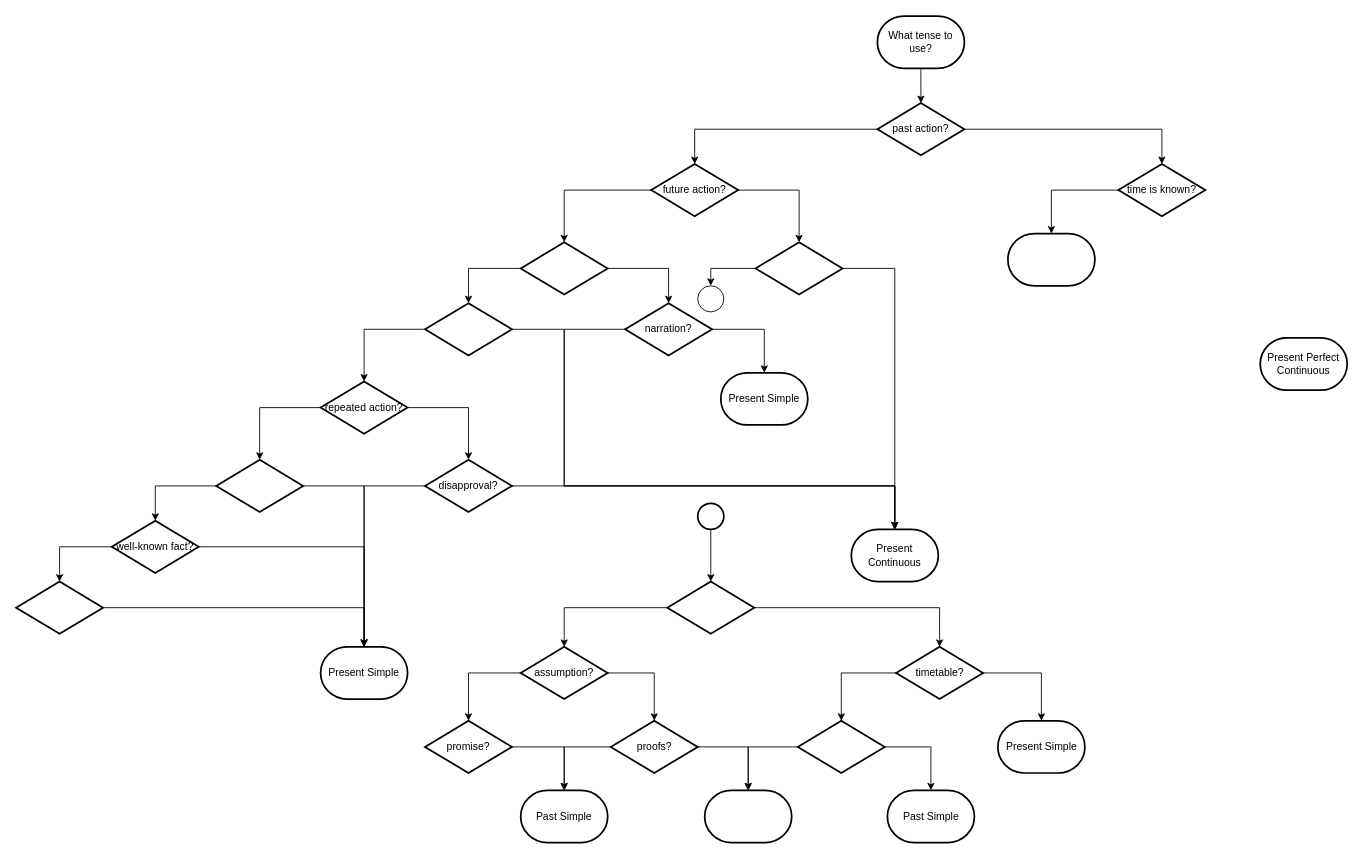
Some shapes in this 1362 by 858 pixel diagram are drawn without their labels. Here are the shapes that lost their labels. From the top down, the centre of each, then its label:
At [563,268]: "current action?".
At [798,268]: "time is specified?".
At [1051,259]: "Present Perfect".
At [468,329]: "developing situation?".
At [259,485]: "permanent state?".
At [59,607]: "instructon?".
At [710,607]: "planned action?".
At [840,746]: "on-the-spot?".
At [747,816]: "be going to".
